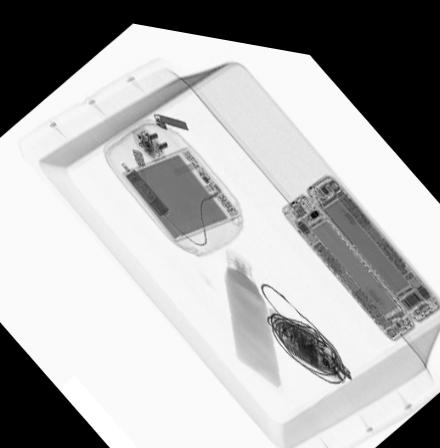Powerbank: (119, 137, 242, 235)
